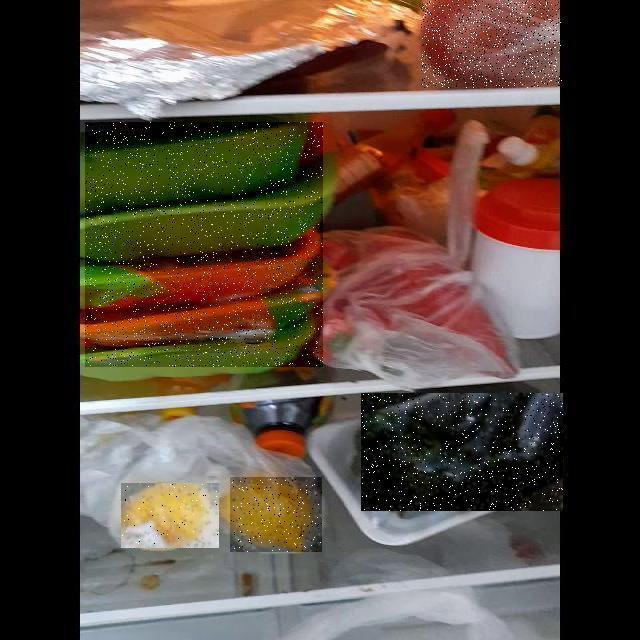broccoli: (80, 256, 640, 640)
